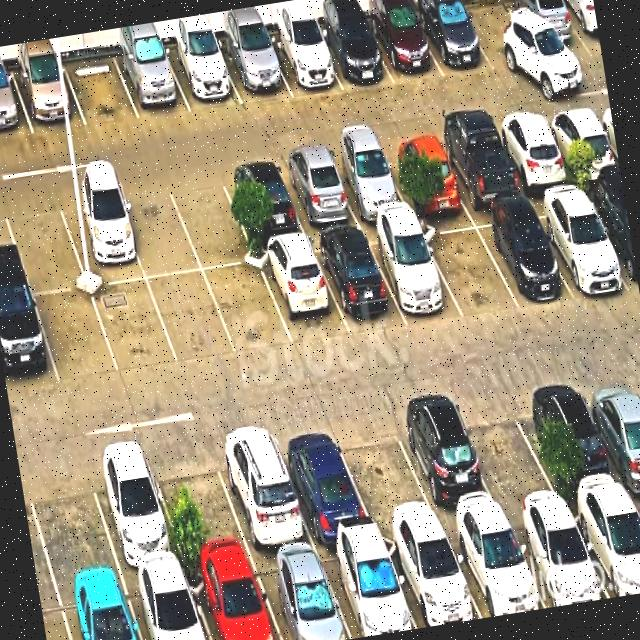empty: (455, 386, 564, 515), (331, 409, 441, 532), (146, 439, 252, 566), (21, 454, 120, 587), (418, 216, 519, 317), (166, 169, 256, 270), (115, 180, 202, 278), (2, 195, 87, 294), (92, 279, 179, 375), (148, 272, 237, 365), (34, 289, 119, 384), (204, 264, 293, 354), (458, 0, 543, 73), (63, 54, 140, 126)
occupied: (390, 397, 505, 526), (210, 423, 315, 555), (526, 376, 629, 503), (84, 445, 185, 574), (271, 419, 375, 544), (528, 191, 631, 296), (507, 507, 610, 608), (471, 206, 572, 307), (445, 517, 546, 618), (317, 537, 417, 639), (256, 240, 350, 347), (382, 529, 482, 628), (311, 231, 406, 334), (364, 224, 463, 322), (251, 549, 352, 640), (56, 187, 146, 286), (186, 558, 281, 640), (568, 493, 640, 598), (434, 125, 525, 208), (579, 369, 640, 492), (220, 160, 307, 245), (276, 152, 361, 234), (326, 144, 411, 223), (381, 135, 468, 212), (492, 114, 575, 193), (124, 568, 210, 640), (365, 7, 444, 85), (412, 2, 494, 77), (542, 106, 621, 183), (582, 185, 639, 291), (0, 292, 59, 393), (314, 18, 394, 90), (163, 43, 243, 112), (11, 61, 86, 134), (114, 48, 191, 119), (506, 0, 592, 63), (264, 29, 343, 96), (58, 577, 142, 640), (218, 36, 291, 104), (559, 0, 602, 54), (0, 70, 33, 139)
